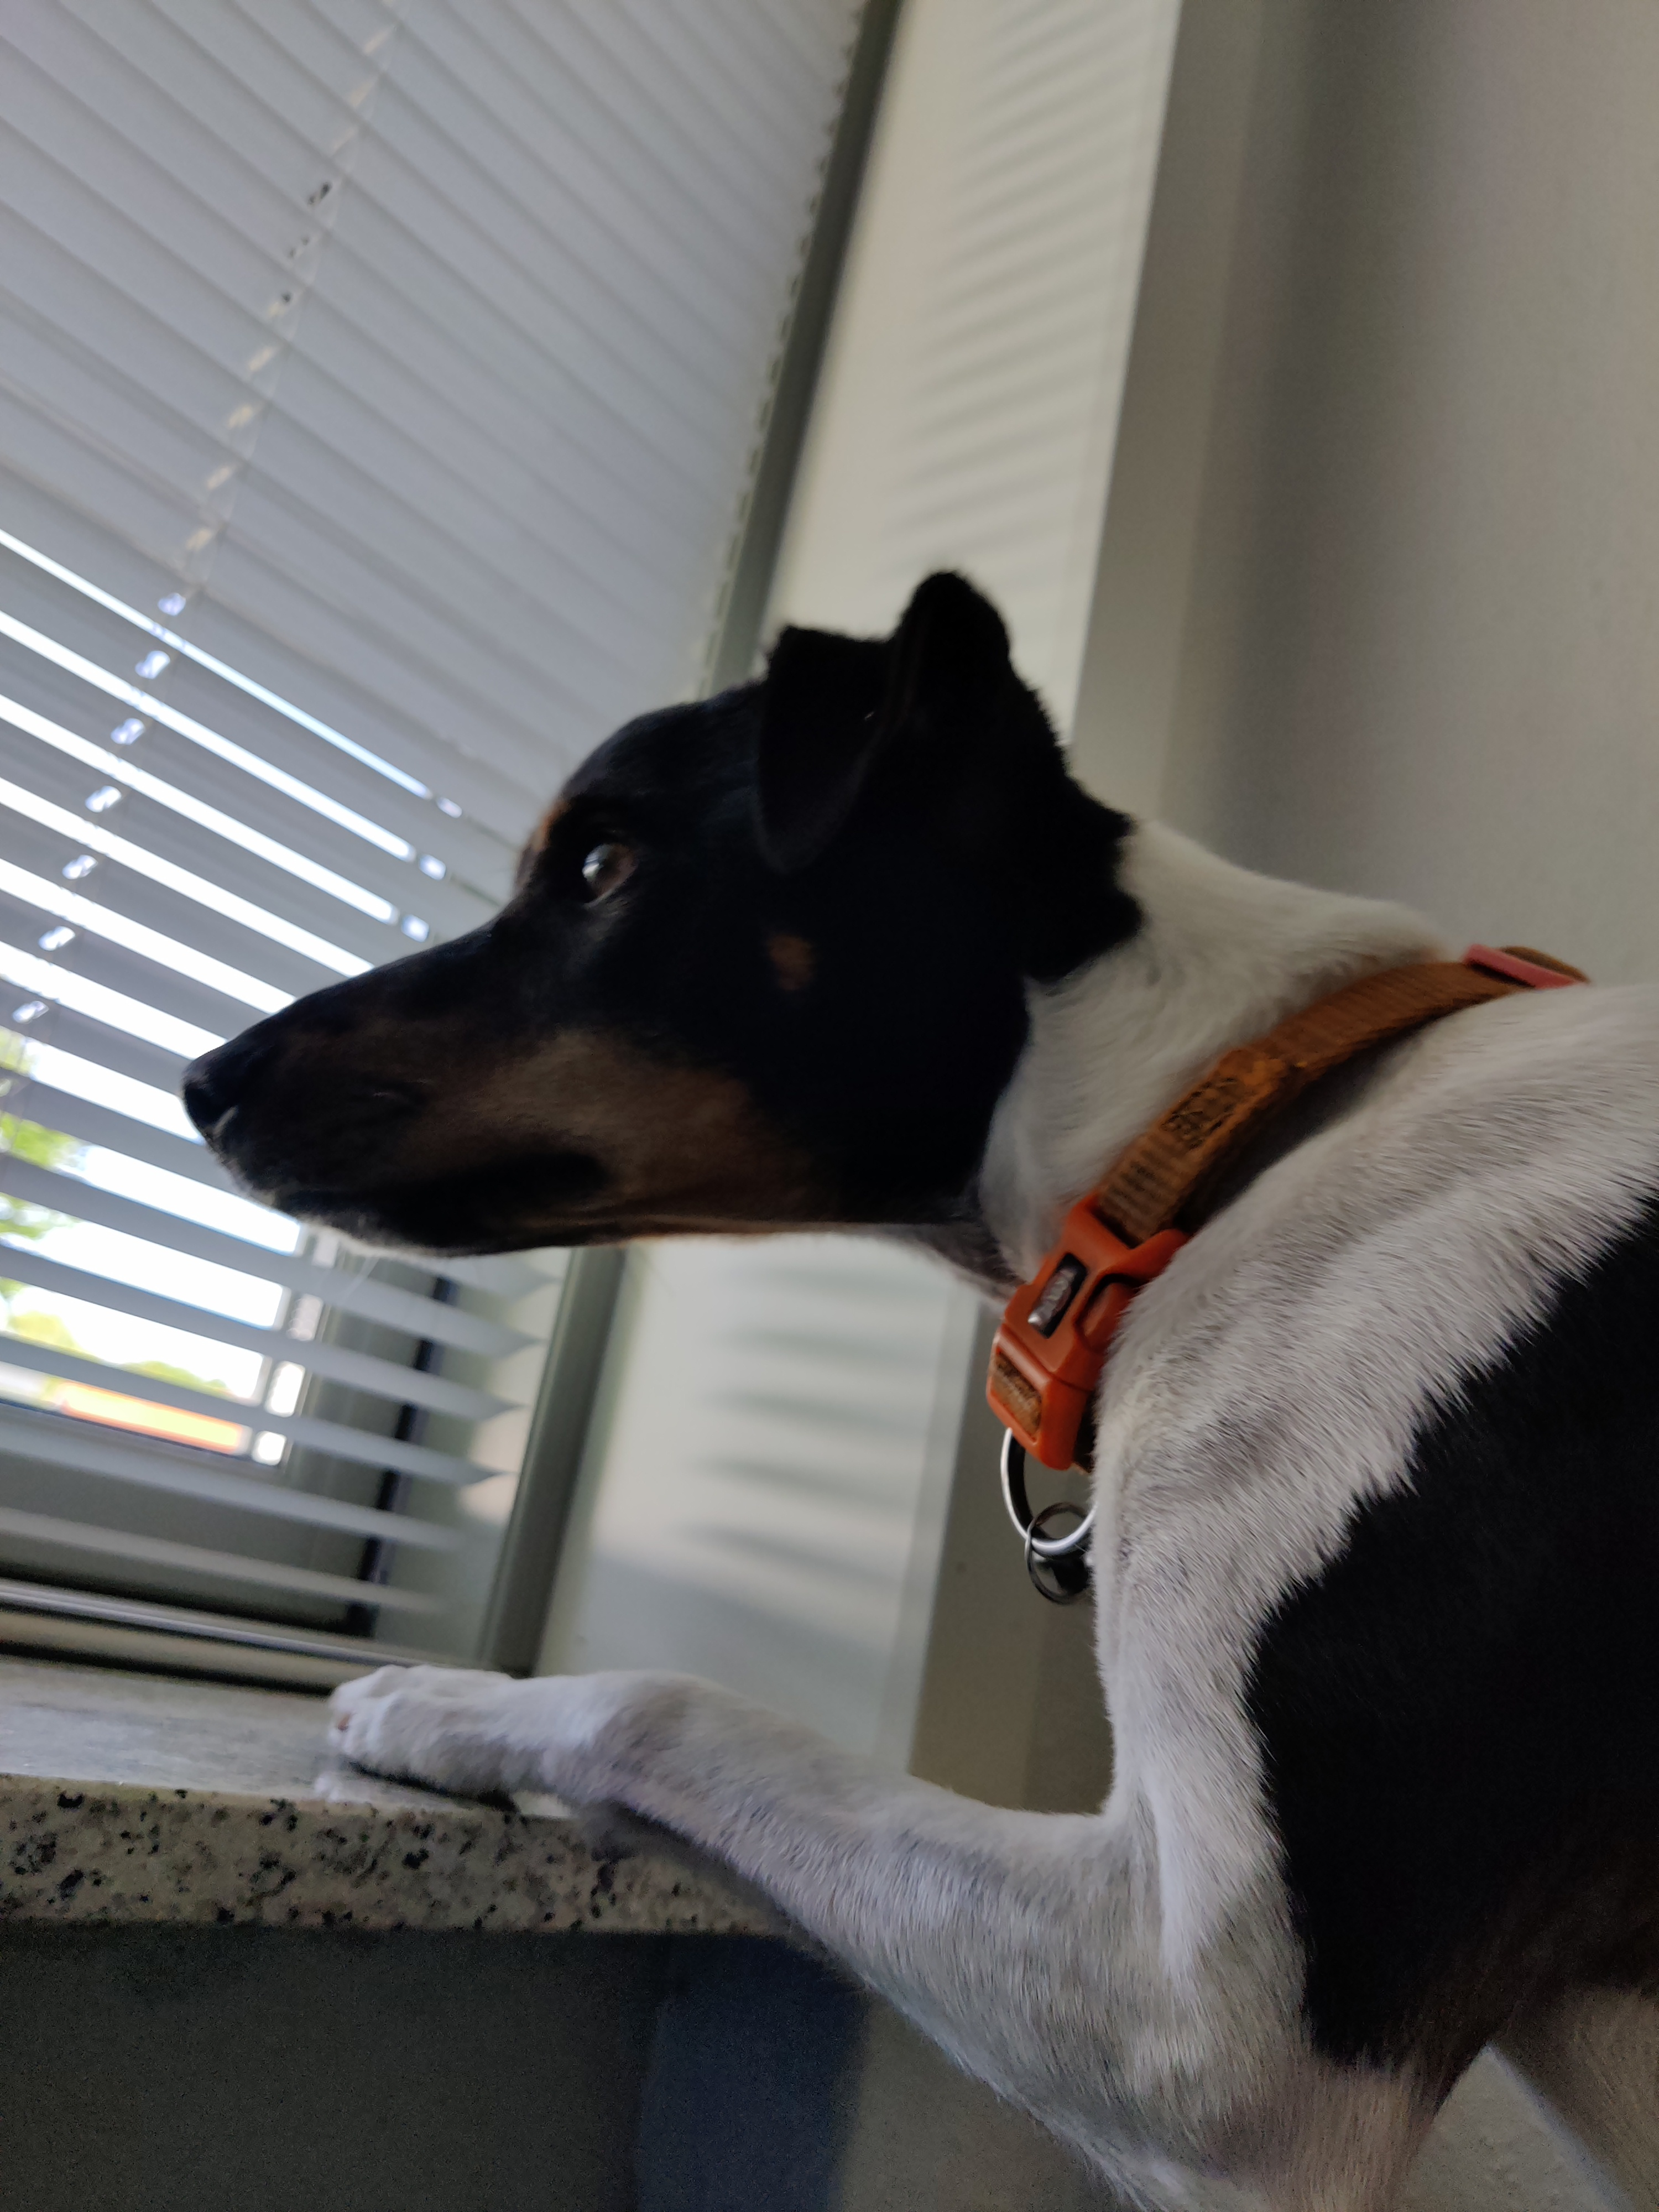Dog: (166, 561, 1659, 2212)
